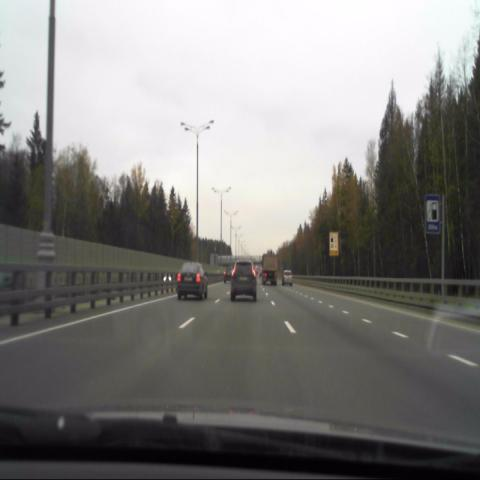7_3: (426, 197, 441, 234)
